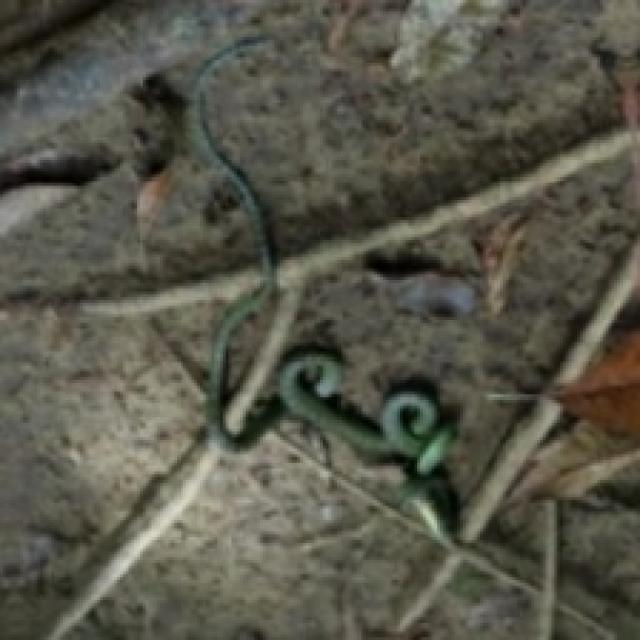paradise tree snake: (0, 71, 217, 637), (191, 37, 451, 474)
